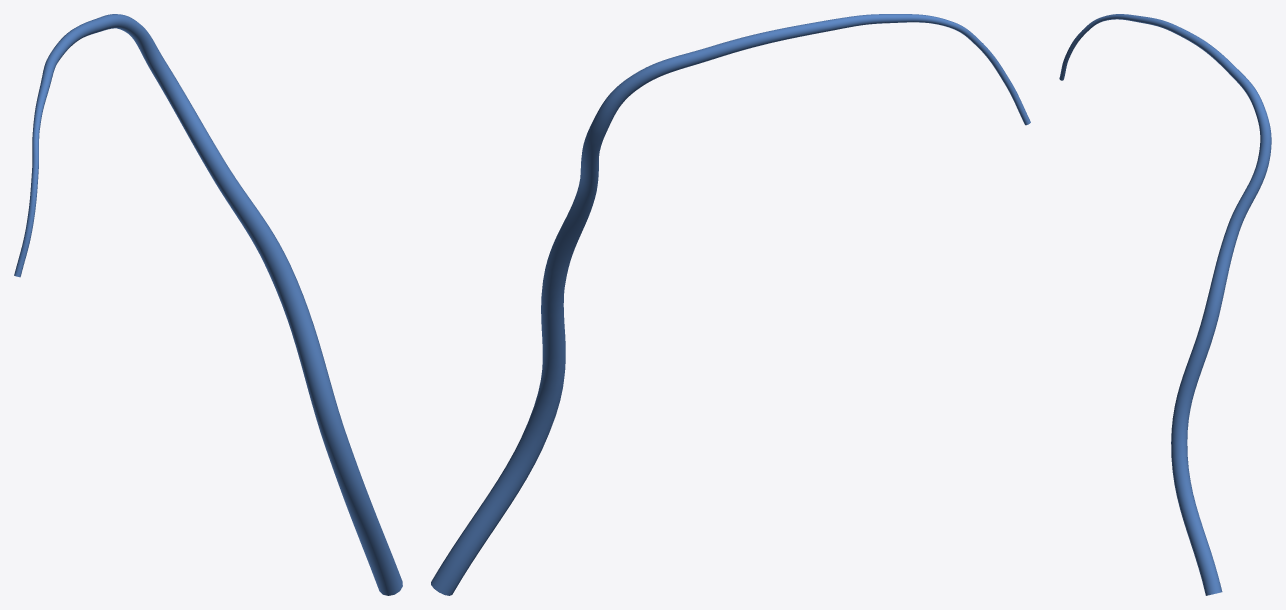
3 renders of one model, left to right at view 1: azimuth 30°, elevation 25°; view 2: azimuth 150°, elevation 25°; view 3: azimuth 270°, elevation 25°, orthographic. The views are drawn at different scales.
Visible parts, largest first — view 1: 右侧旋股内侧静脉; view 2: 右侧旋股内侧静脉; view 3: 右侧旋股内侧静脉.
Part boxes in pixels (x1,y1,x2,y2): 右侧旋股内侧静脉: (14, 14, 402, 595); 右侧旋股内侧静脉: (431, 14, 1030, 595); 右侧旋股内侧静脉: (1059, 14, 1271, 595).
Size of the model in its own units: 0.0873 by 0.1092 by 0.0467.
